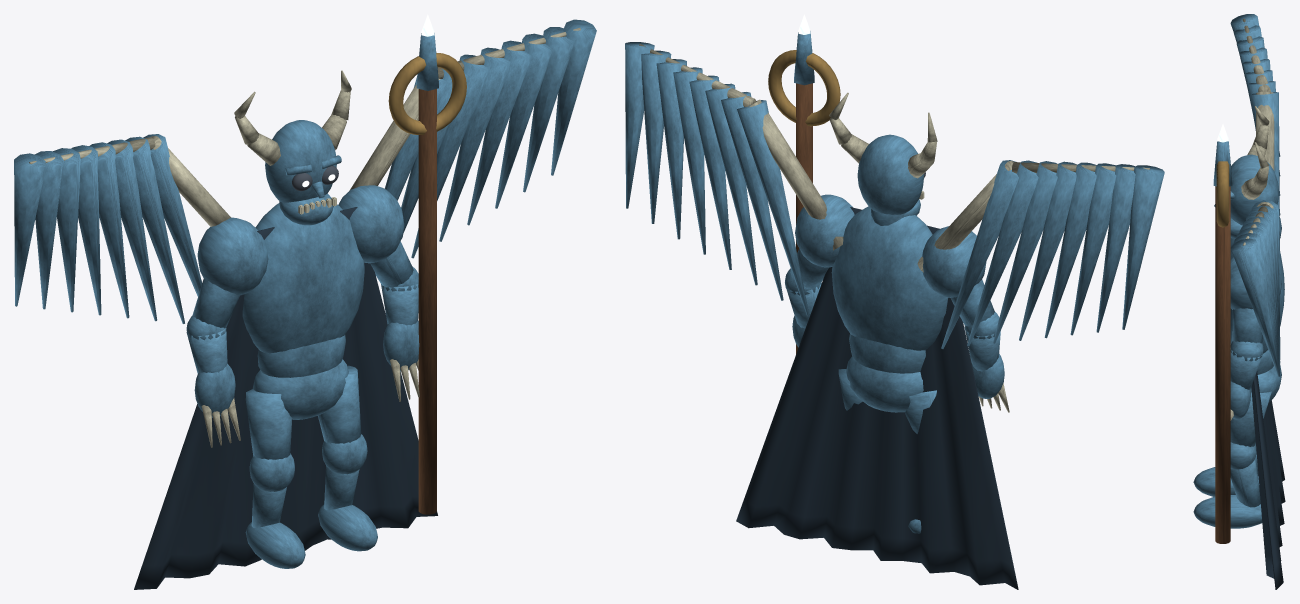
The model's file is enemy_blizzard_lord.glb.
3 renders of one model, left to right at view 1: azimuth 30°, elevation 25°; view 2: azimuth 150°, elevation 25°; view 3: azimuth 270°, elevation 25°, orthographic. The views are drawn at different scales.
Visible parts, largest first — view 1: Woven_midnight_wool, Blue_glacial_ice.007, Blue_glacial_ice, Blue_glacial_ice.008, Blue_glacial_ice.002, Old_oak, Blue_glacial_ice.004, Blue_glacial_ice.001, Blue_glacial_ice.003, Blue_glacial_ice.005, Antique_brass, Aged_bone.004 (+4 smaller); view 2: Woven_midnight_wool, Blue_glacial_ice.007, Blue_glacial_ice.008, Blue_glacial_ice, Blue_glacial_ice.002, Blue_glacial_ice.005, Blue_glacial_ice.004, Aged_bone.004, Antique_brass, Aged_bone.003, Aged_bone.002, Old_oak (+2 smaller); view 3: Old_oak, Blue_glacial_ice.008, Woven_midnight_wool, Blue_glacial_ice.003, Blue_glacial_ice.004, Blue_glacial_ice.007, Blue_glacial_ice.005, Blue_glacial_ice, Aged_bone.002, Aged_bone.003, Antique_brass, Blue_glacial_ice.001 (+2 smaller).
Boxes of the visible parts, x1,y1,x2,y2 form: Woven_midnight_wool: (134,207,437,589); Blue_glacial_ice.007: (14,134,202,323); Blue_glacial_ice: (242,203,364,419); Blue_glacial_ice.008: (384,19,596,258); Blue_glacial_ice.002: (186,217,268,417); Old_oak: (418,89,436,514); Blue_glacial_ice.004: (338,185,419,371); Blue_glacial_ice.001: (245,389,305,568); Blue_glacial_ice.003: (318,365,377,551); Blue_glacial_ice.005: (265,120,341,225); Antique_brass: (388,53,466,134); Aged_bone.004: (349,28,580,190); Woven_midnight_wool: (736,207,1018,589); Blue_glacial_ice.007: (941,160,1164,348); Blue_glacial_ice.008: (625,42,809,315); Blue_glacial_ice: (831,206,947,412); Blue_glacial_ice.002: (922,226,1004,398); Blue_glacial_ice.005: (857,134,923,225); Blue_glacial_ice.004: (785,194,854,347); Aged_bone.004: (639,44,843,250); Antique_brass: (768,50,840,126); Aged_bone.003: (917,161,1149,272); Aged_bone.002: (829,92,937,199); Old_oak: (796,83,812,354); Old_oak: (1215,186,1230,543); Blue_glacial_ice.008: (1230,200,1280,376); Woven_midnight_wool: (1251,371,1285,589); Blue_glacial_ice.003: (1193,391,1271,528); Blue_glacial_ice.004: (1230,257,1281,419); Blue_glacial_ice.007: (1230,14,1280,251); Blue_glacial_ice.005: (1214,154,1279,238); Blue_glacial_ice: (1230,238,1284,402); Aged_bone.002: (1241,106,1269,199); Aged_bone.003: (1242,18,1274,170); Antique_brass: (1216,161,1229,227); Blue_glacial_ice.001: (1193,444,1259,496).
Bounding box in the file's own units: 8.19 × 7.23 × 1.34.
Materials: 7 (5 with a texture image).
